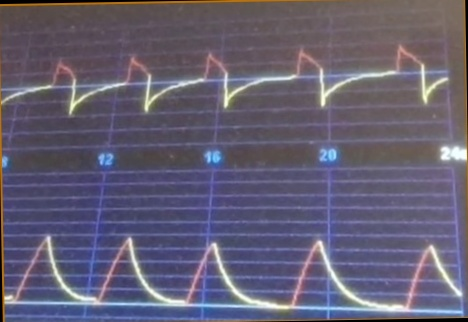Normal Flow: (4, 39, 449, 130)
Normal Volume: (6, 213, 461, 314)
